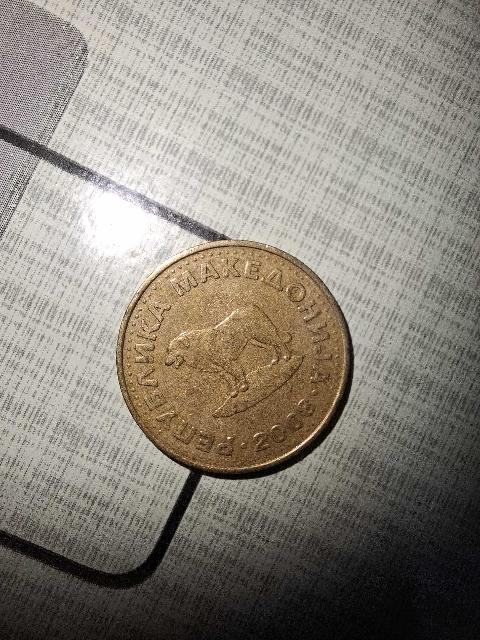coin: (117, 241, 349, 473)
